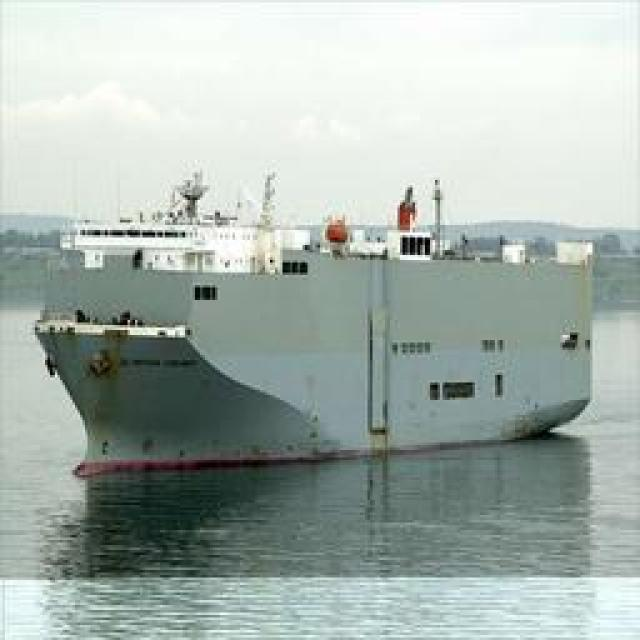ship2: (31, 157, 598, 474)
